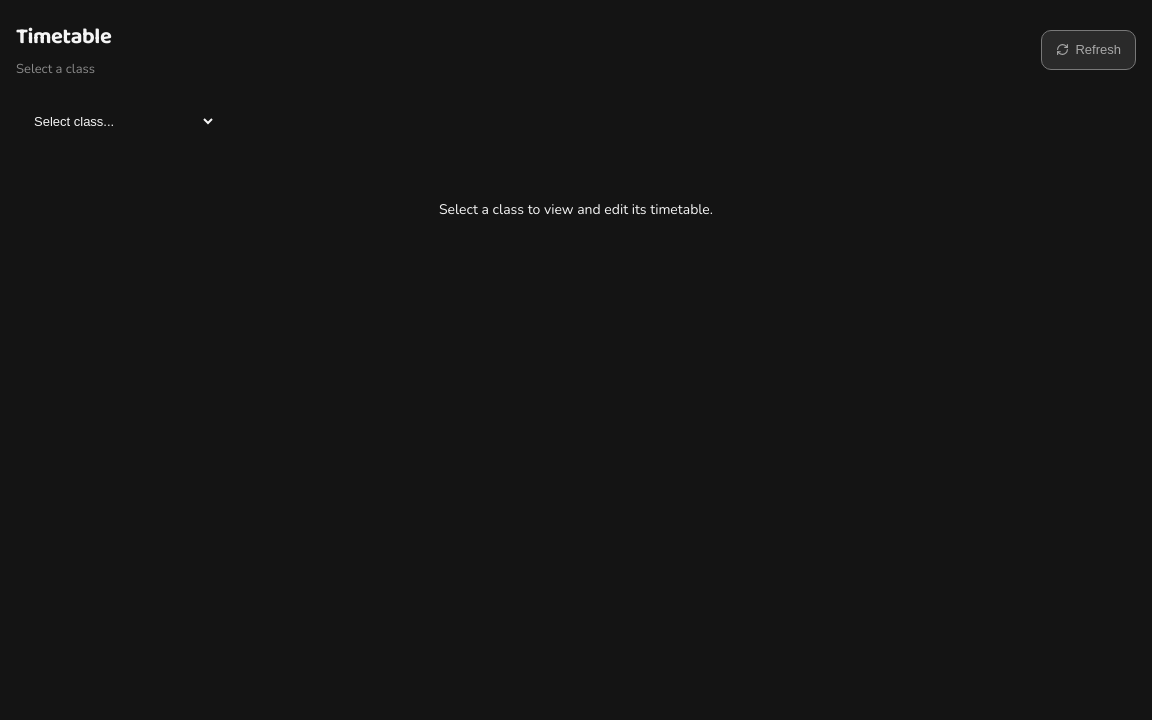
Test case: saving is a separate tap that goes to a different address
The width and height of the screenshot is (1152, 720).
Select "5th-A" in the dropdown at (116, 122), box [16,104,216,139]
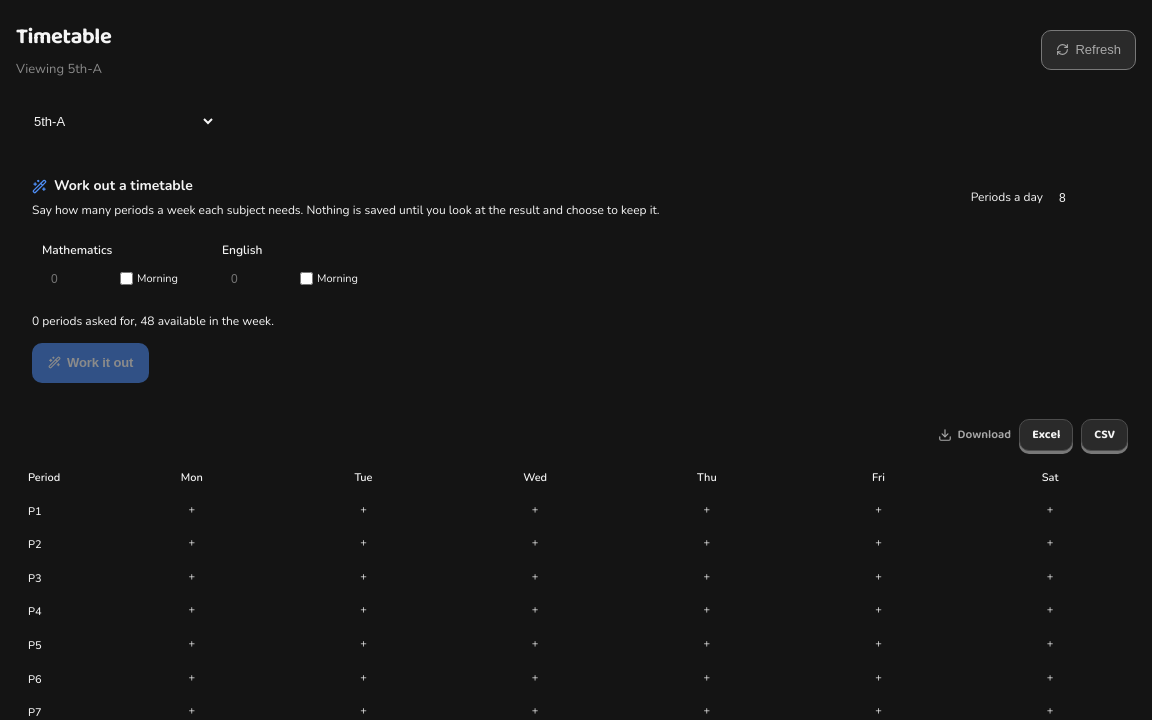
Expected: the number field with test id "generator-count-sub-maths" is shown
Type "6" into the number field with test id "generator-count-sub-maths" at (77, 279), box [42,266,112,292]
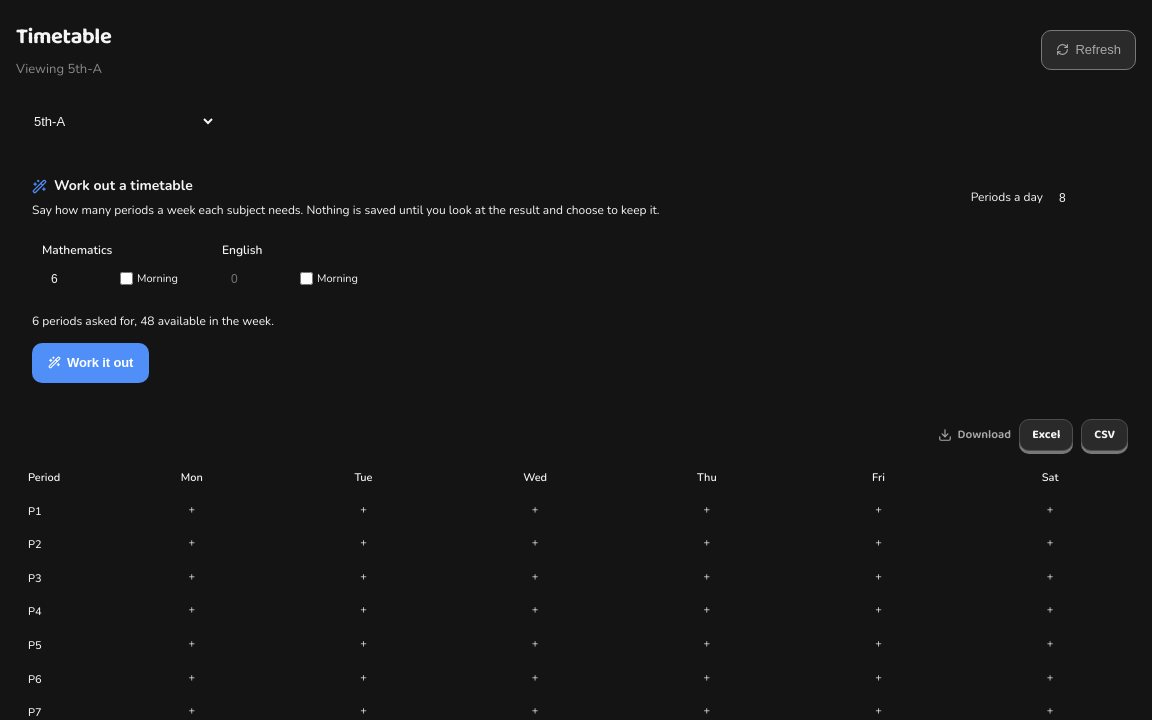
Click the button with test id "generator-run" at (91, 363), box [32,343,149,383]
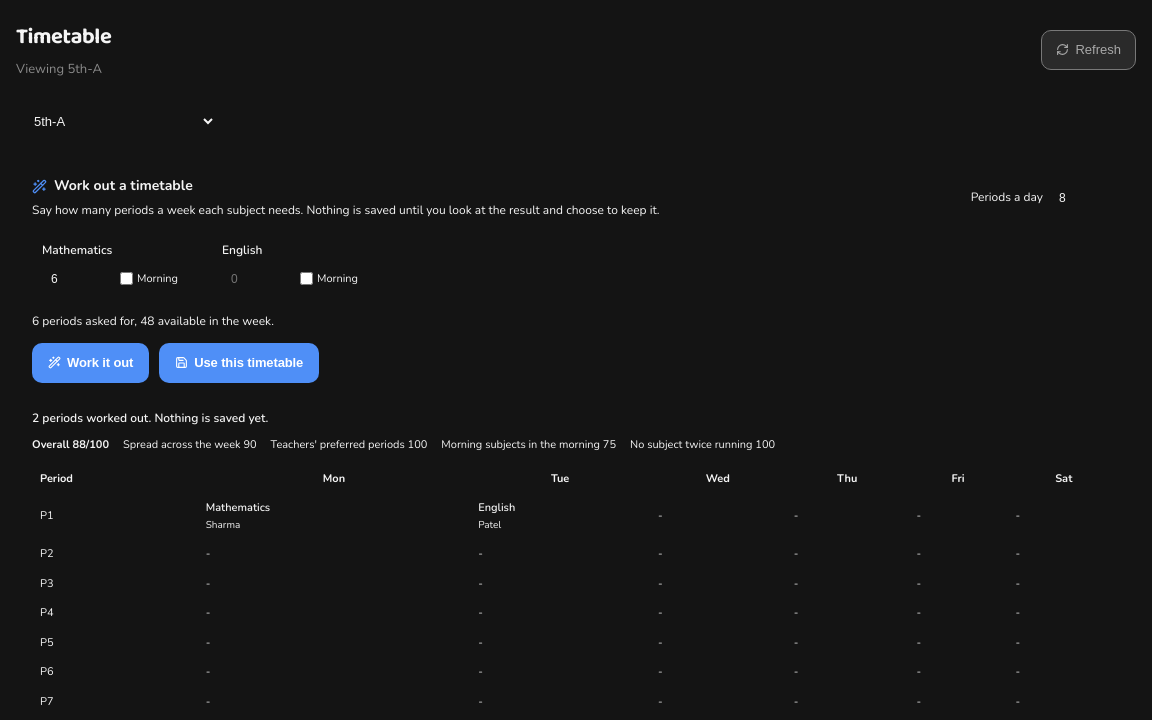
Expected: the element with test id "generator-proposal" is shown, [32,397,1120,719]
Click the button with test id "generator-apply" at (239, 363), box [159,343,319,383]
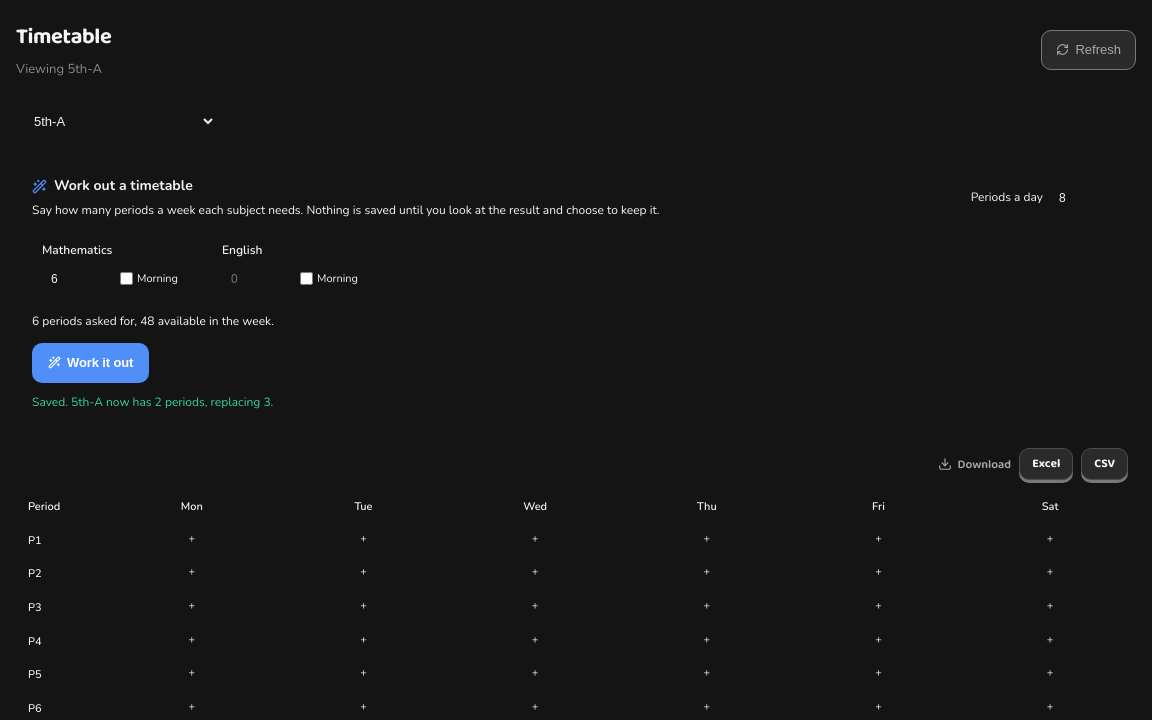
Expected: the message with test id "generator-note" shows "replacing 3", [32,394,273,410]
